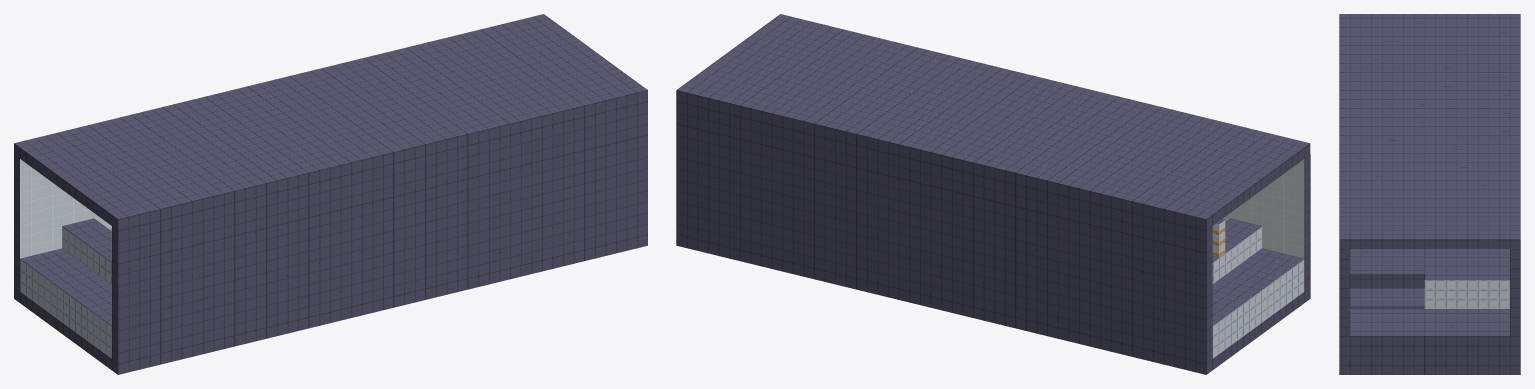
The model's file is Module_Test.fbx.
The picture shows the model from 3 angles, left to right: view 1: azimuth 30°, elevation 25°; view 2: azimuth 150°, elevation 25°; view 3: azimuth 270°, elevation 25°; orthographic projection. The views are drawn at different scales.
Visible parts, largest first — view 1: Module_Test; view 2: Module_Test; view 3: Module_Test.
Part boxes in pixels (left/top/right/bottom): Module_Test: left=14, top=14, right=647, bottom=374; Module_Test: left=676, top=14, right=1310, bottom=374; Module_Test: left=1339, top=14, right=1520, bottom=374.
Bounding box in the file's own units: 5001 × 1402 × 1702.
